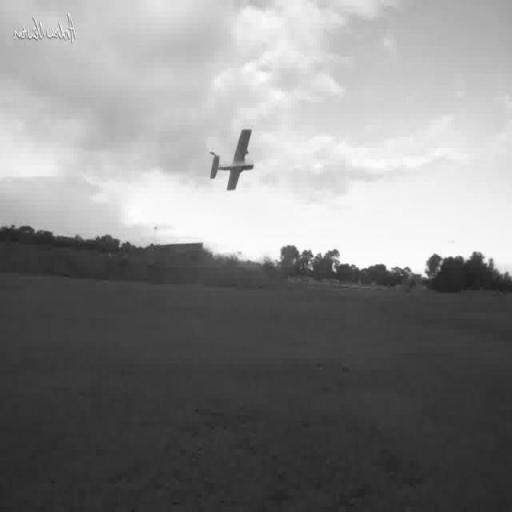uav: (200, 112, 264, 218)
